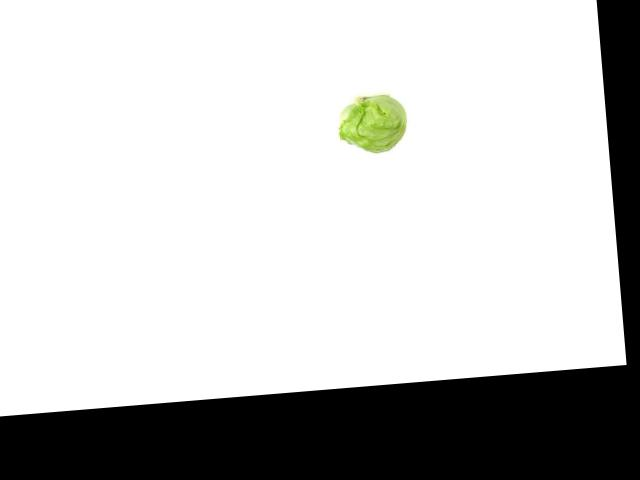lettuce: (328, 92, 416, 162)
